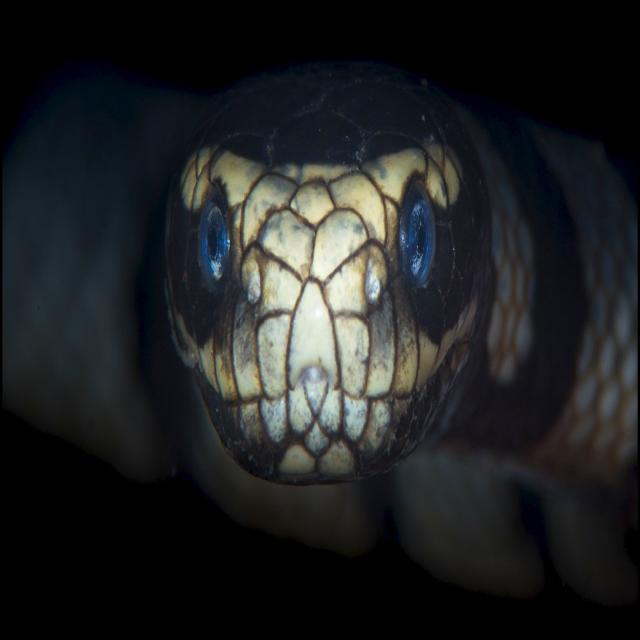snake: (3, 65, 637, 604)
